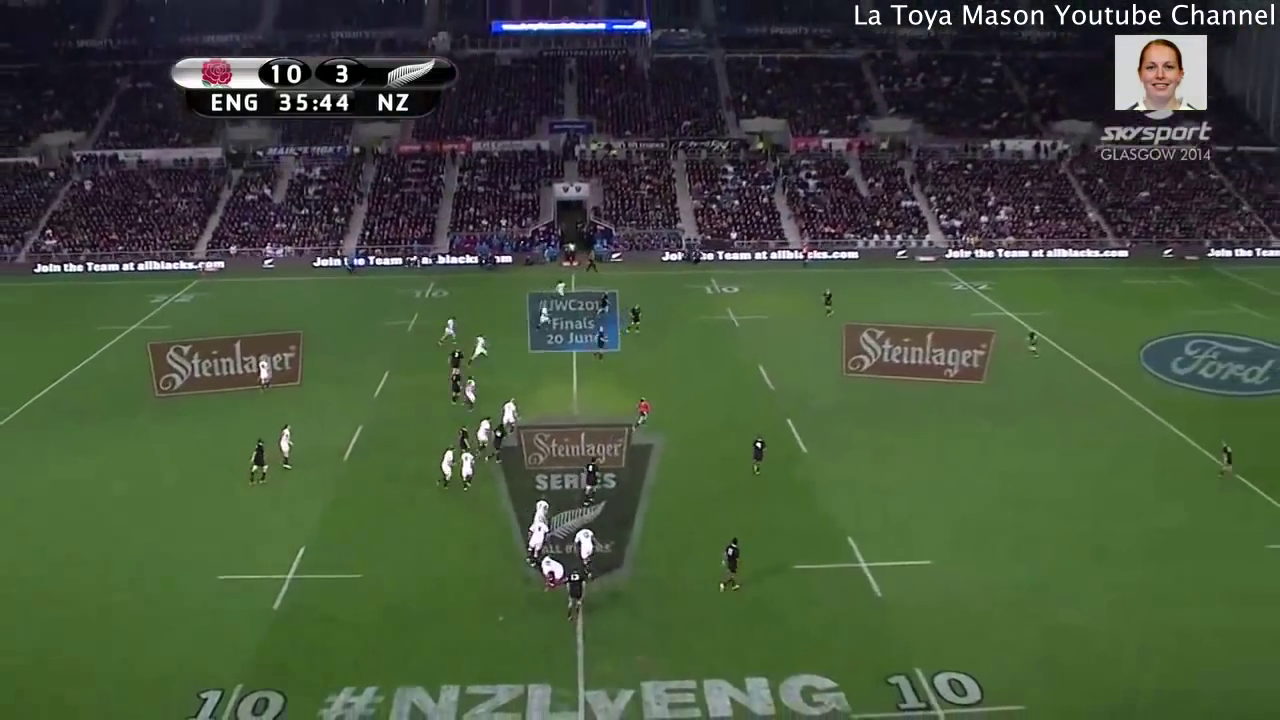10_metre: (782, 527, 947, 607), (210, 542, 374, 616), (842, 660, 1042, 720), (169, 670, 305, 720), (696, 303, 777, 333), (679, 274, 762, 297), (375, 309, 447, 335), (393, 278, 462, 302)
player: (525, 550, 575, 593), (713, 533, 746, 597), (519, 512, 553, 571), (570, 521, 600, 587), (242, 433, 273, 491), (562, 567, 590, 626), (481, 420, 510, 474), (451, 442, 479, 496), (1211, 433, 1239, 487), (273, 419, 297, 477), (433, 442, 458, 495), (745, 432, 771, 482), (494, 395, 523, 439), (581, 455, 604, 509), (628, 394, 657, 433), (470, 409, 494, 455), (250, 351, 274, 395), (620, 301, 646, 341), (1020, 322, 1046, 362), (434, 312, 462, 349), (464, 329, 492, 365), (458, 372, 482, 413), (588, 323, 611, 364), (451, 422, 477, 458), (442, 365, 462, 410), (527, 493, 554, 526), (531, 303, 555, 337), (443, 342, 469, 373), (591, 286, 614, 318), (819, 286, 839, 322), (552, 278, 566, 305)
